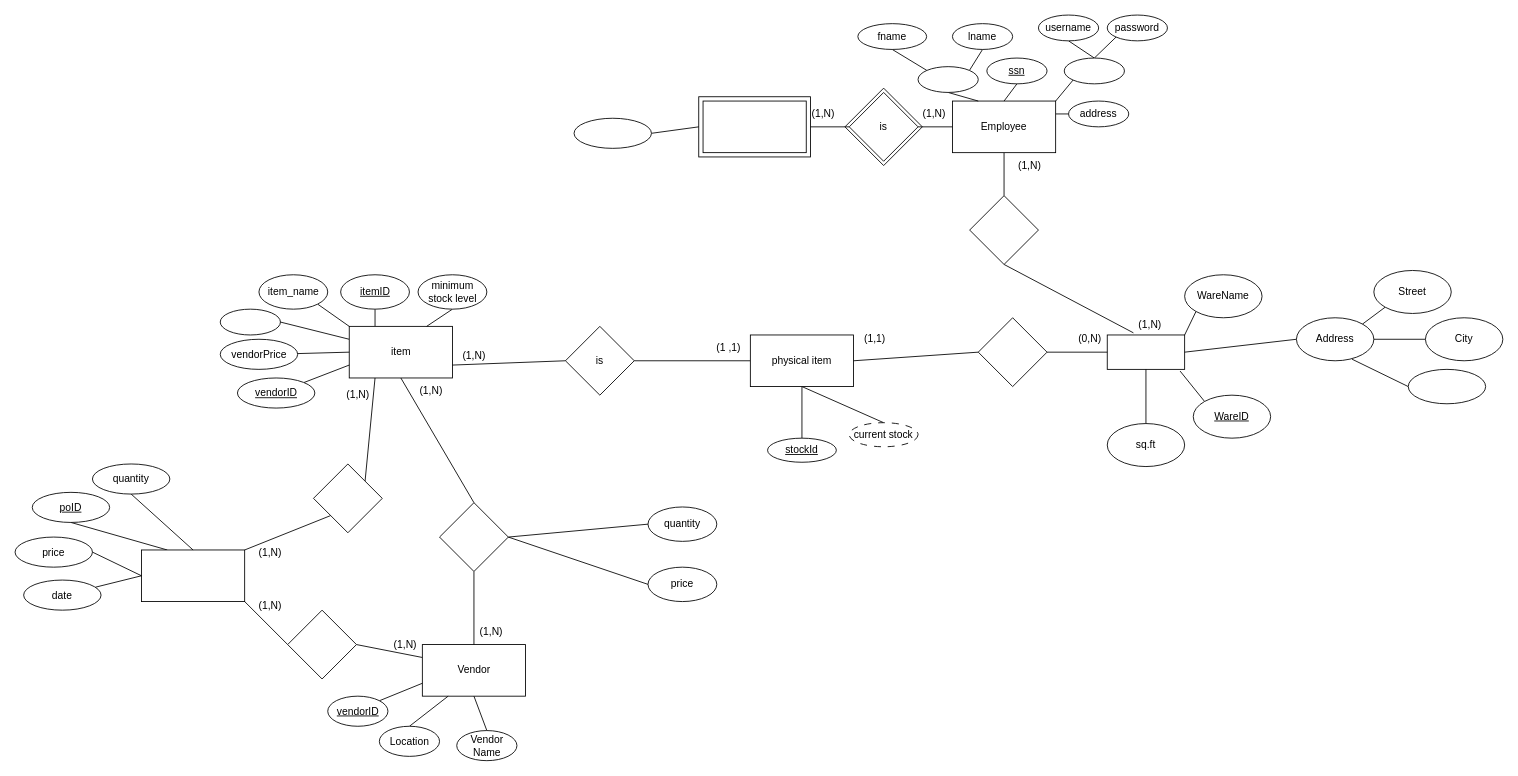
This 1518x776 diagram has some shape labels left out. The centre of each missing label's shape, as x and y in pixels:
"Admin" goes at (754,126).
"fancyJobTitle" goes at (612,132).
"item from" goes at (347,498).
"login" goes at (1093,70).
"name" goes at (947,79).
"Purchase Order" goes at (193,575).
"purchased from" goes at (321,644).
"sellPrice" goes at (249,321).
"State" goes at (1446,386).
"stored_in" goes at (1012,352).
"supplies" goes at (473,536).
"Warehouse" goes at (1145,351).
"works_at" goes at (1003,229).
